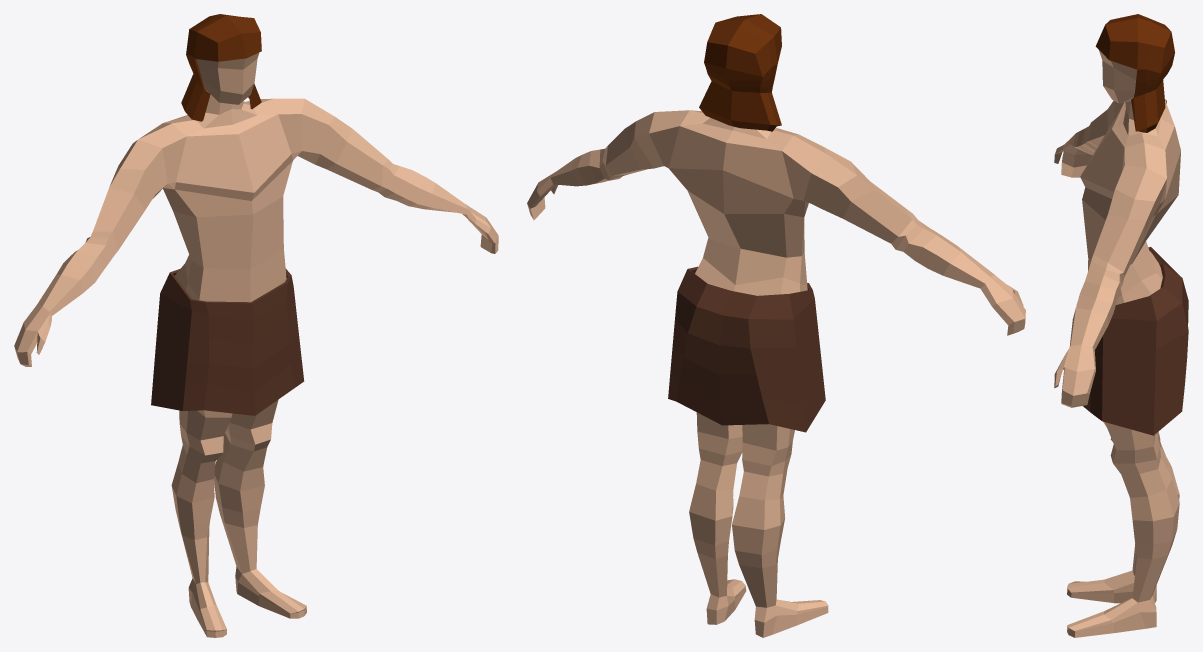
The model's file is mainEdited.fbx.
The picture shows the model from 3 angles, left to right: view 1: azimuth 30°, elevation 25°; view 2: azimuth 150°, elevation 25°; view 3: azimuth 270°, elevation 25°; orthographic projection. The views are drawn at different scales.
Visible parts, largest first — view 1: BODY, DRESS, HAIR; view 2: BODY, DRESS, HAIR; view 3: BODY, DRESS, HAIR.
Boxes of the visible parts, left/top/right/bottom form: BODY: left=14, top=52, right=498, bottom=637; DRESS: left=151, top=268, right=304, bottom=415; HAIR: left=181, top=14, right=261, bottom=121; BODY: left=527, top=110, right=1025, bottom=637; DRESS: left=668, top=266, right=825, bottom=432; HAIR: left=699, top=14, right=781, bottom=131; BODY: left=1054, top=50, right=1180, bottom=637; DRESS: left=1083, top=247, right=1188, bottom=435; HAIR: left=1095, top=14, right=1174, bottom=132.
Size of the model in its own units: 390 by 455 by 93.12.
